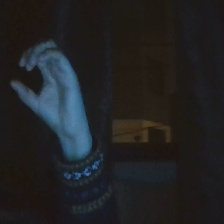C: (4, 35, 95, 138)
